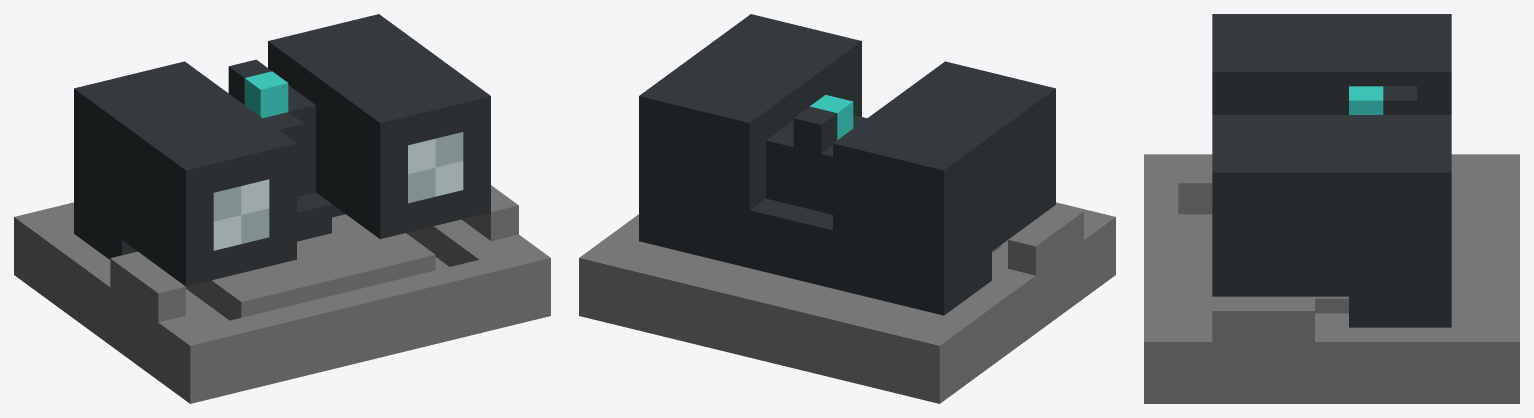
The model's file is shop_turret4.obj.
3 renders of one model, left to right at view 1: azimuth 30°, elevation 25°; view 2: azimuth 150°, elevation 25°; view 3: azimuth 270°, elevation 25°, orthographic. The views are drawn at different scales.
Size of the model in its own units: 1.3 by 0.7 by 1.1.
1 material, 1 textured.
